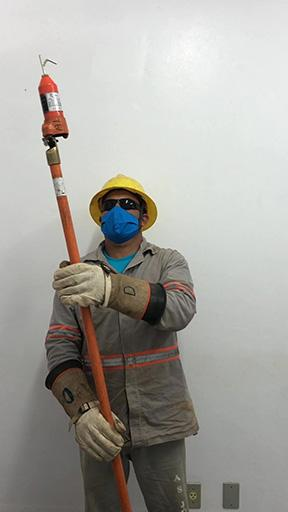Detector_Tensao_Contato: (36, 52, 70, 143)
Vara_Manobra: (42, 142, 129, 512)
